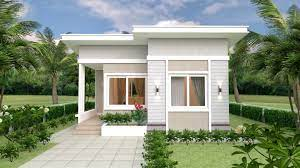Building House: (59, 24, 253, 140)
